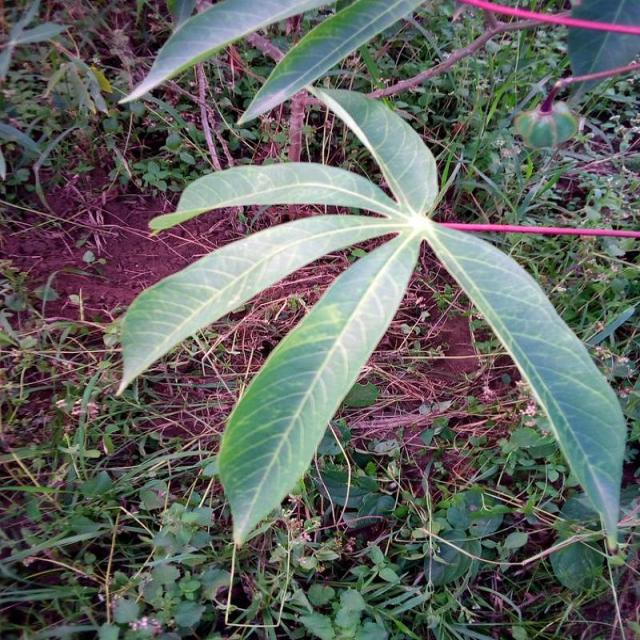cassava leaf: (115, 81, 630, 562), (425, 218, 628, 552), (216, 224, 422, 548), (234, 0, 425, 127)
